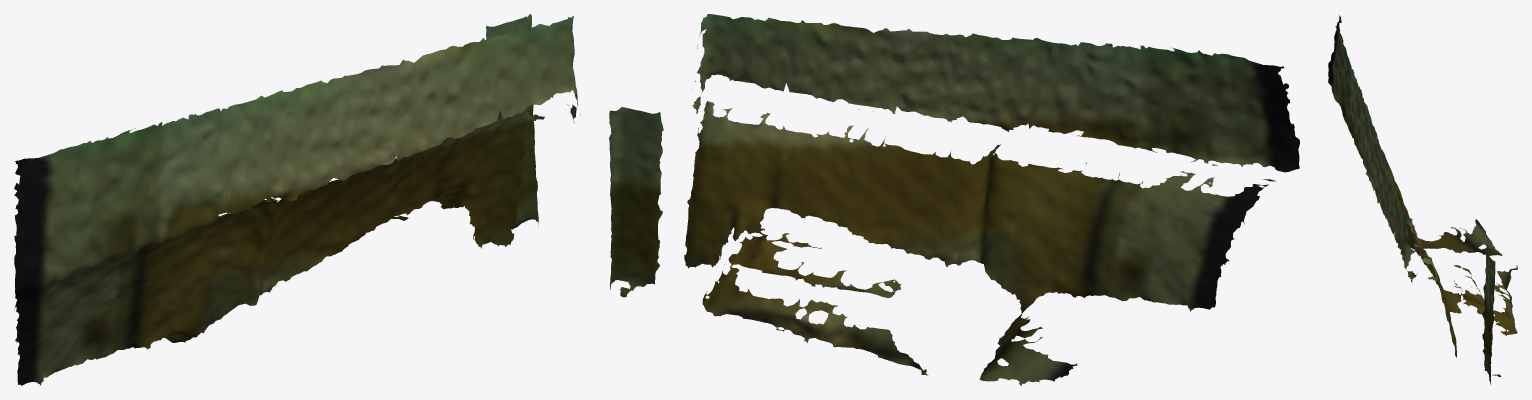
Rendered from final_color_model_20260205_111118.obj.
3 views of the same model, side by side, from view 1: azimuth 30°, elevation 25°; view 2: azimuth 150°, elevation 25°; view 3: azimuth 270°, elevation 25° (orthographic). The views are drawn at different scales.
Bounding box in the file's own units: 1.81 × 0.8435 × 0.7741.
